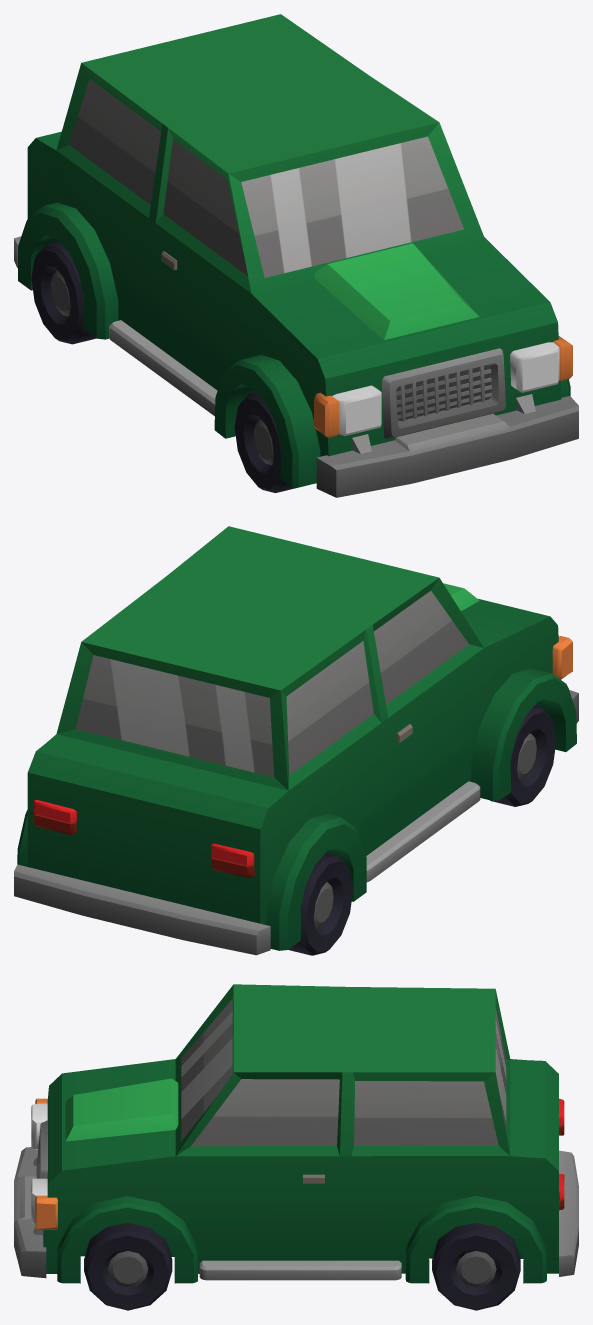
File: Car_3_14.glb
3 renders of one model, top to bottom at view 1: azimuth 30°, elevation 25°; view 2: azimuth 150°, elevation 25°; view 3: azimuth 270°, elevation 25°, orthographic. The views are drawn at different scales.
Parts seen in each view (by area): view 1: Car_3_14, Wheel_Br, Wheel_Fr; view 2: Car_3_14, Wheel_Br, Wheel_Fr; view 3: Car_3_14, Wheel_Bl, Wheel_Fl.
Boxes of the visible parts, <box> form: Car_3_14: <box>14,14,578,497</box>; Wheel_Br: <box>31,241,96,344</box>; Wheel_Fr: <box>234,391,297,492</box>; Car_3_14: <box>14,526,578,955</box>; Wheel_Br: <box>288,853,353,955</box>; Wheel_Fr: <box>490,705,556,806</box>; Car_3_14: <box>14,984,578,1283</box>; Wheel_Bl: <box>432,1223,520,1310</box>; Wheel_Fl: <box>84,1223,172,1310</box>.
Bounding box in the file's own units: 1.13 × 1.02 × 2.3.
6 materials, 6 textured.
